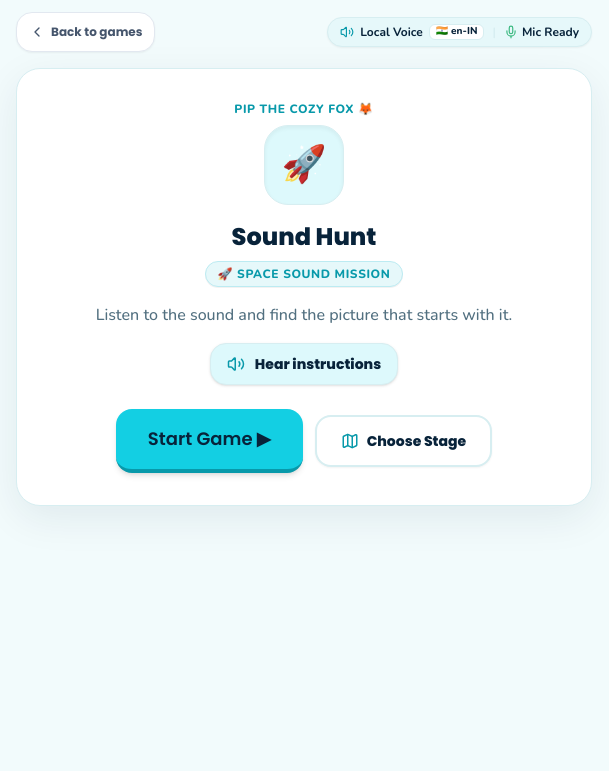
Shared Game Progression & Stage Selection Integration › Space Sound Mission (sound-hunt) › displays Start Game when no checkpoint exists, and allows opening stage roadmap
Expected: the button "Start Game ▶" is shown, x1=116 y1=409 x2=303 y2=473
# Open roadmap
Click the button with test id "choose-stage-button": (403, 441) x1=315 y1=415 x2=492 y2=467
(page scrolled)
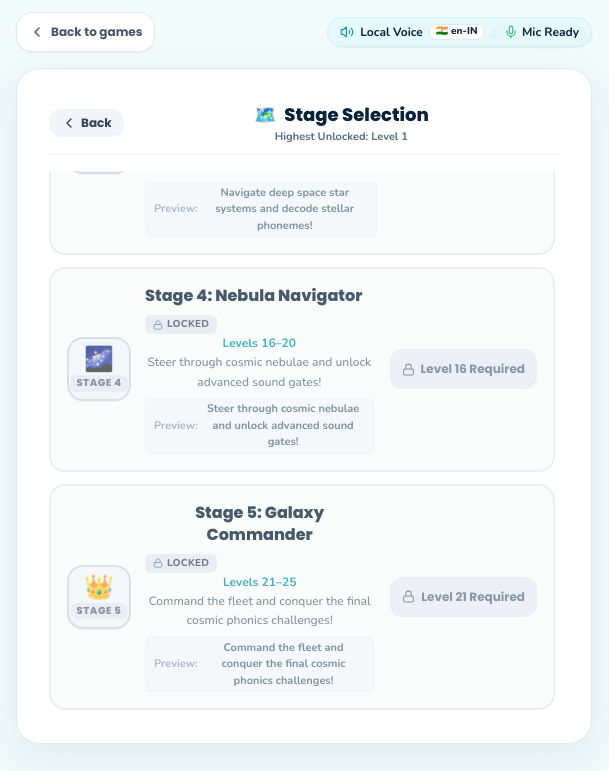
Now the element with test id "stages-roadmap-view" is shown
Now the element with test id "locked-stage-4" is shown, box x1=390 y1=349 x2=537 y2=389
Now the element with test id "locked-stage-5" is shown, box x1=390 y1=577 x2=537 y2=617
